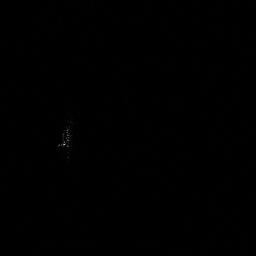ship: (57, 121, 73, 161)
